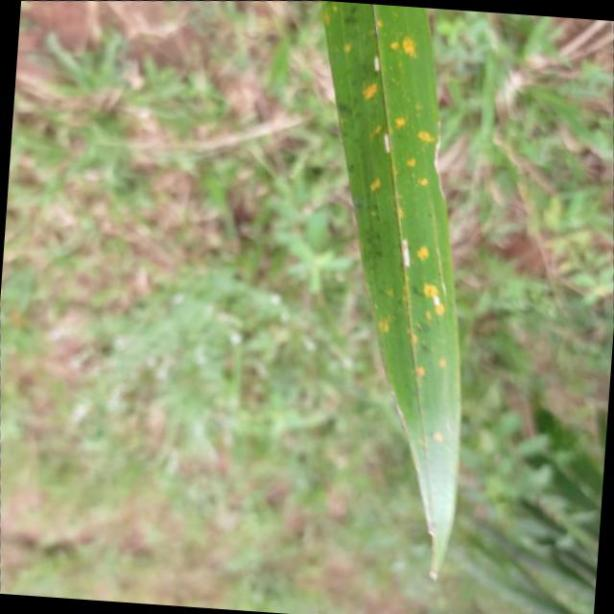Kalium: (321, 0, 459, 579)
